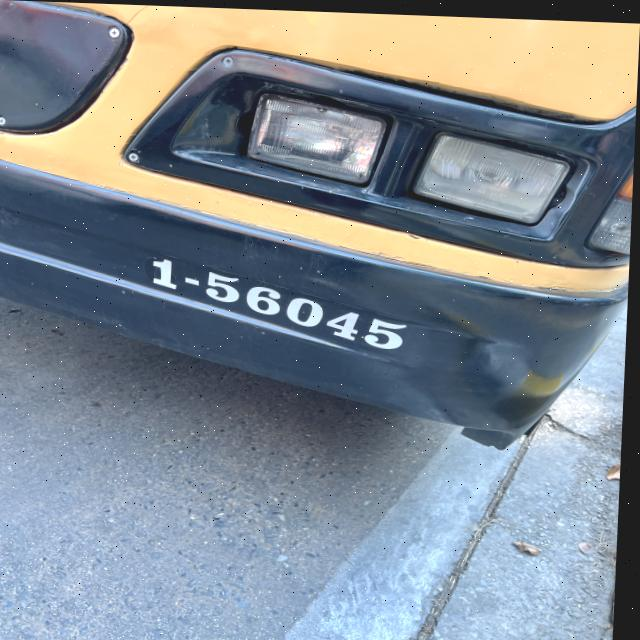BMTA-bus: (0, 0, 640, 450)
